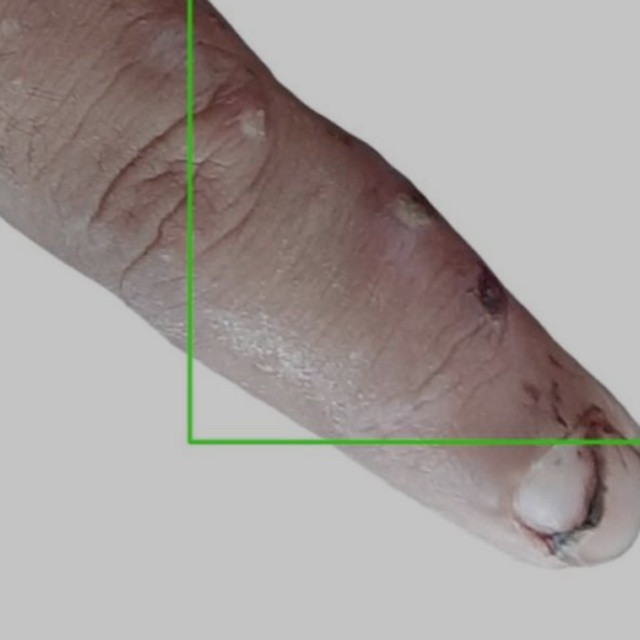Scabies: (188, 0, 639, 440)
